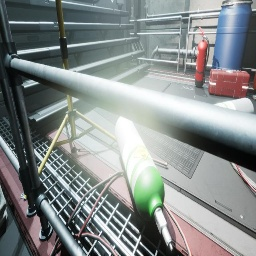0: (115, 117, 173, 251), (214, 98, 254, 114)
FireExtinguisher ]: (195, 27, 209, 87)
FirstAidBox ,: (208, 68, 250, 99)
